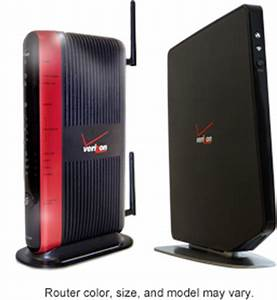Verizon Router: (11, 1, 155, 276)
